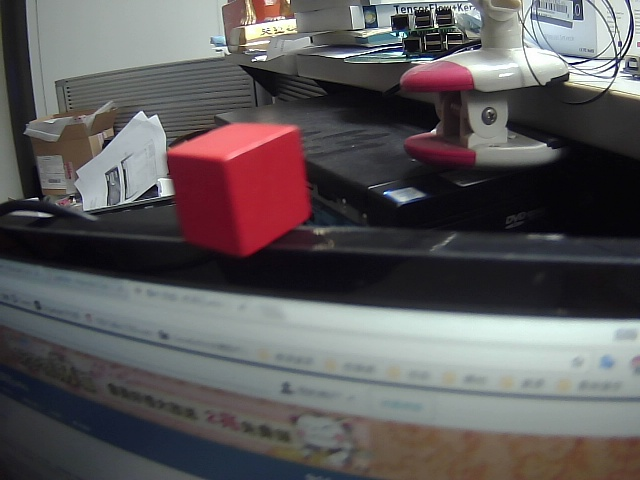redbox: (158, 118, 321, 265)
